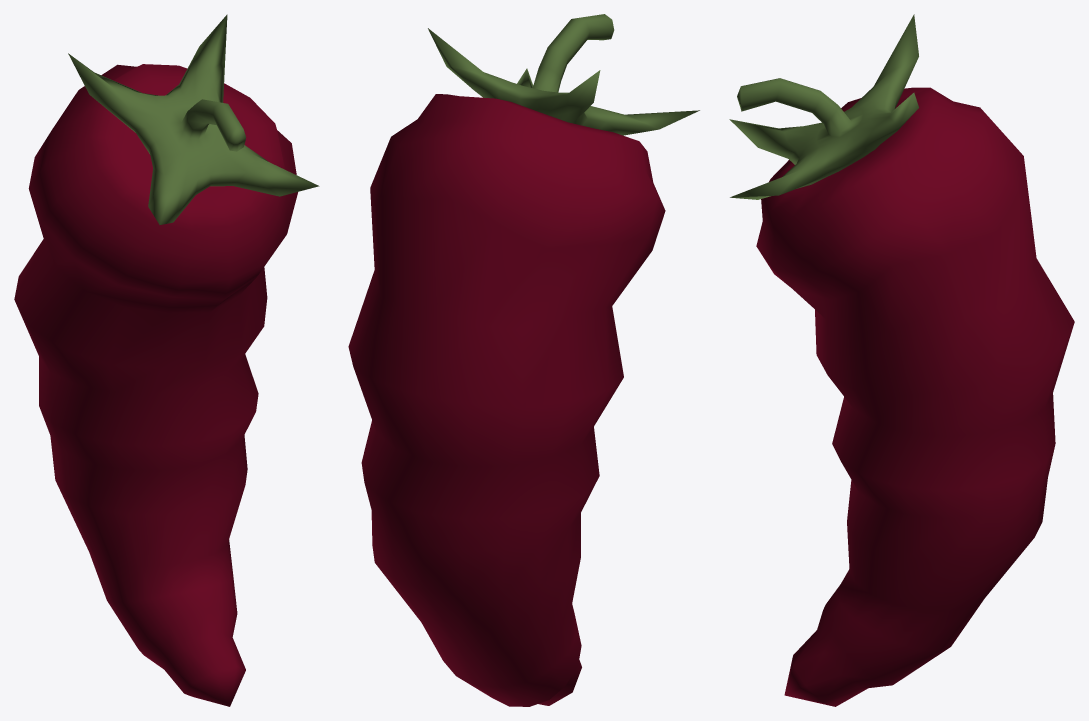
Rendered from very shrivelled pepper.fbx.
3 views of the same model, side by side, from view 1: azimuth 30°, elevation 25°; view 2: azimuth 150°, elevation 25°; view 3: azimuth 270°, elevation 25° (orthographic). The views are drawn at different scales.
Visible parts, largest first — view 1: pasted__pasted__pCylinder2; view 2: pasted__pasted__pCylinder2; view 3: pasted__pasted__pCylinder2.
Part boxes in pixels (bbox=[...]): pasted__pasted__pCylinder2: bbox=[14, 14, 319, 706]; pasted__pasted__pCylinder2: bbox=[348, 14, 699, 706]; pasted__pasted__pCylinder2: bbox=[729, 14, 1074, 706].
Bounding box in the file's own units: 0.9074 × 2.27 × 1.11.
